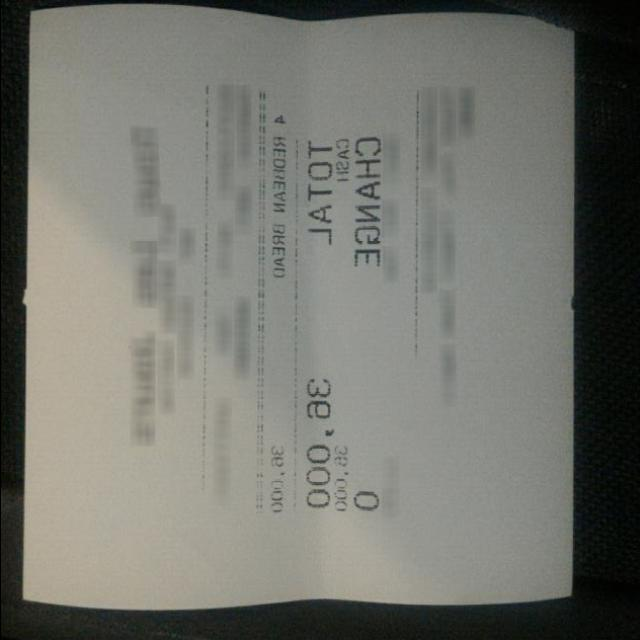kertas: (23, 5, 574, 611)
